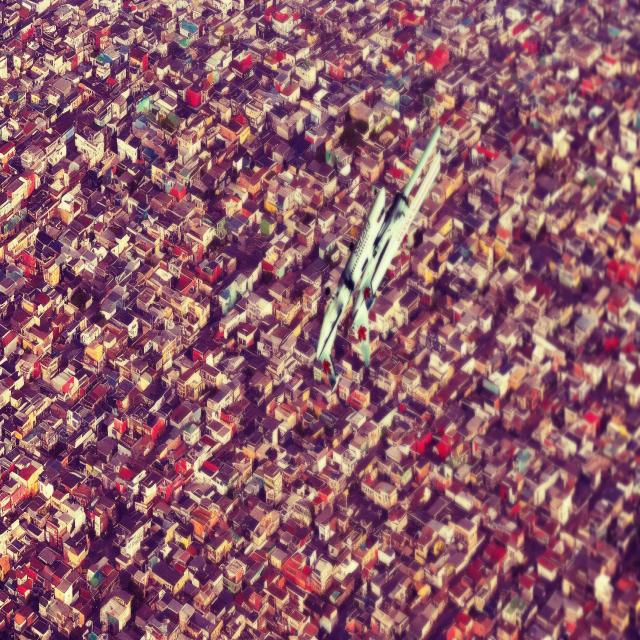airplane: (314, 123, 442, 393)
